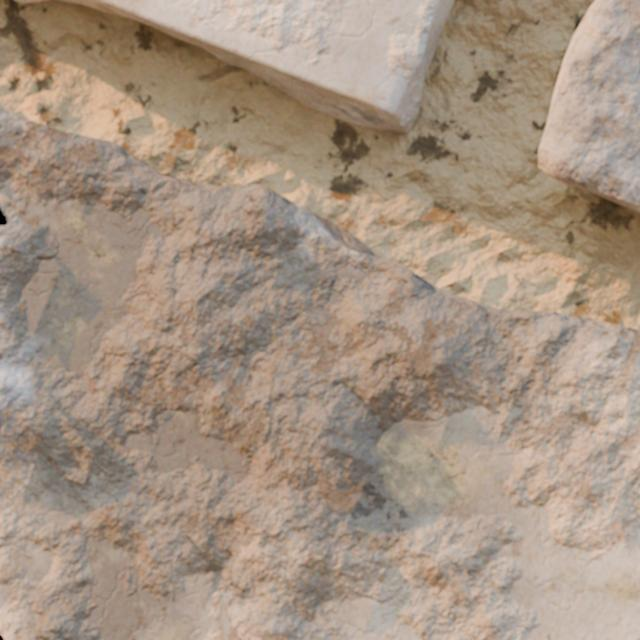crack: (0, 107, 639, 639), (56, 0, 454, 132), (538, 0, 639, 212), (14, 0, 48, 2)
